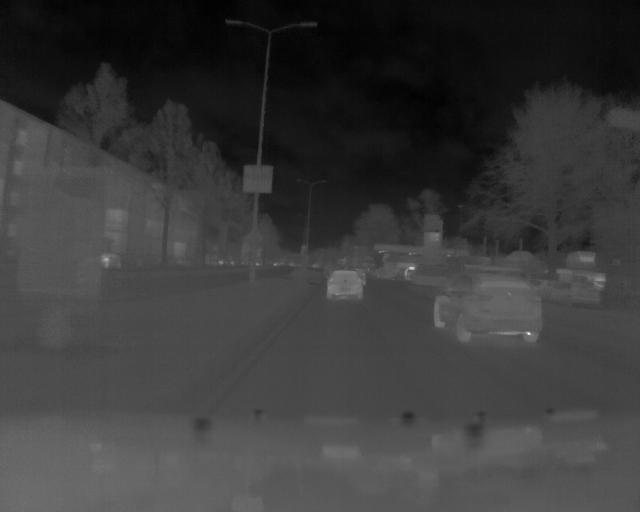car: (432, 268, 547, 345), (324, 268, 366, 300)
